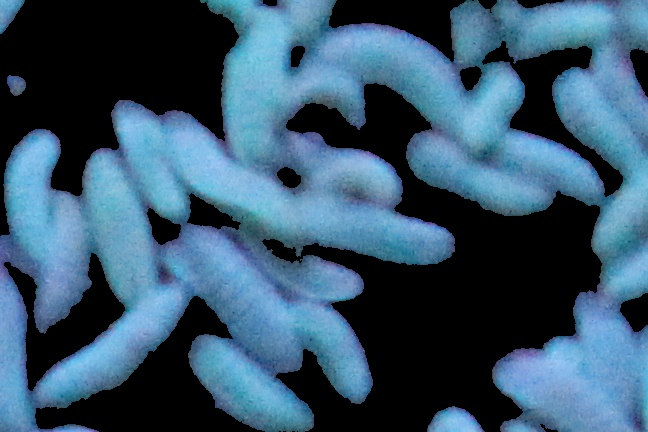larvae: (38, 275, 192, 415), (170, 226, 307, 358), (286, 186, 463, 281), (164, 101, 295, 223), (399, 123, 562, 221), (302, 25, 468, 117), (75, 144, 160, 298), (207, 28, 299, 167), (184, 337, 314, 432), (484, 346, 630, 430), (110, 97, 193, 221), (46, 193, 107, 343), (550, 69, 638, 169), (493, 123, 603, 199), (1, 120, 61, 248), (300, 308, 378, 404), (311, 137, 405, 207), (503, 4, 618, 55)
